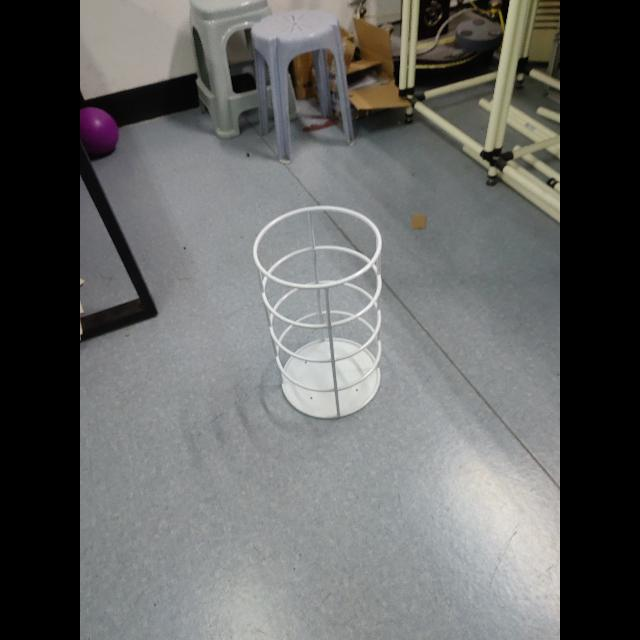S: (250, 202, 386, 422)
